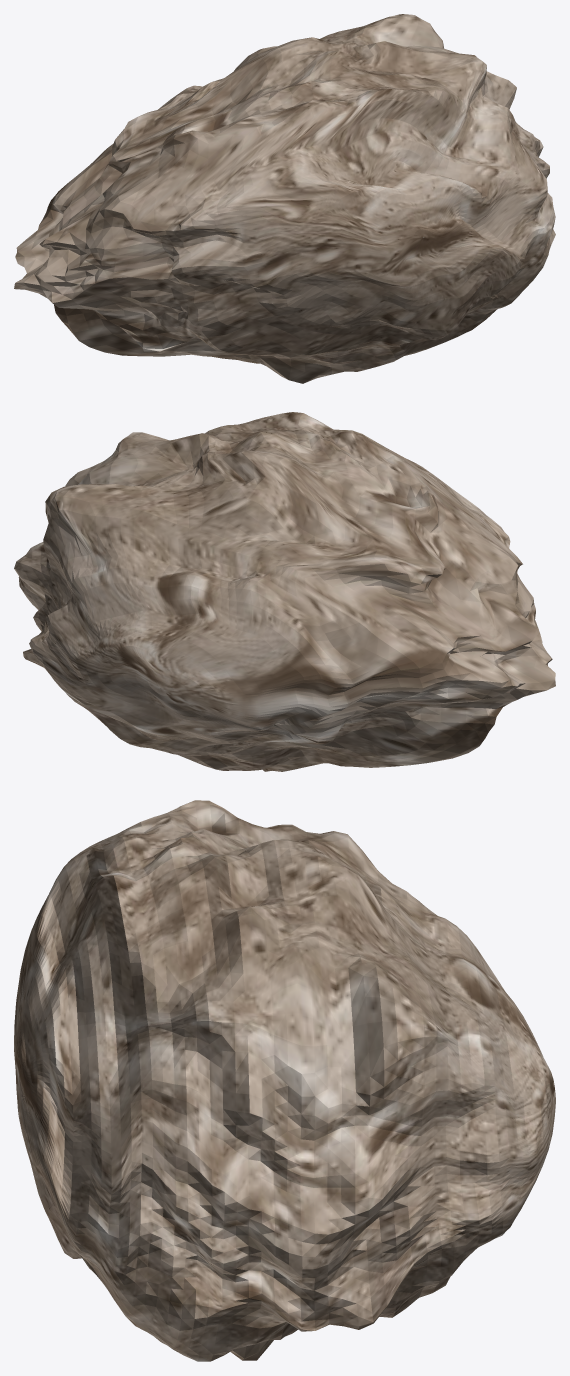
File: asteroid.obj
3 renders of one model, top to bottom at view 1: azimuth 30°, elevation 25°; view 2: azimuth 150°, elevation 25°; view 3: azimuth 270°, elevation 25°, orthographic. The views are drawn at different scales.
Parts seen in each view (by area): view 1: Sphere01; view 2: Sphere01; view 3: Sphere01.
Boxes of the visible parts, x1,y1,x2,y2 form: Sphere01: (14,14,555,383); Sphere01: (14,412,555,771); Sphere01: (14,800,555,1361).
Bounding box in the file's own units: 39.05 × 23.17 × 24.69.
